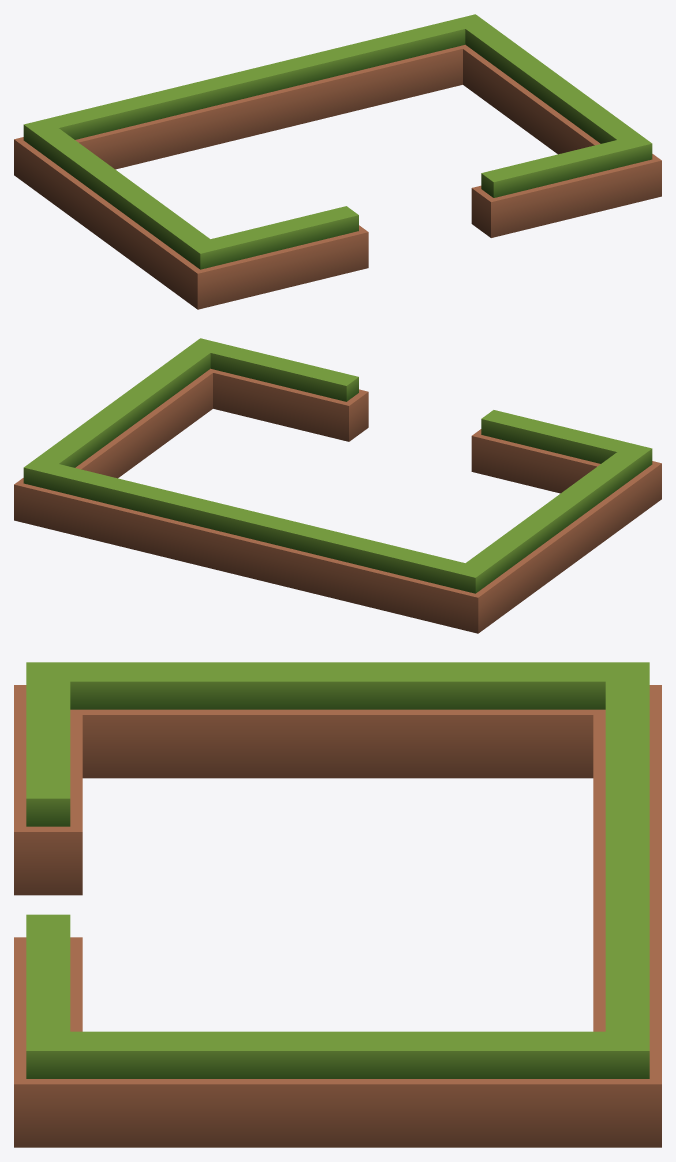
File: grass 15.fbx
3 views of the same model, one above another, from view 1: azimuth 30°, elevation 25°; view 2: azimuth 150°, elevation 25°; view 3: azimuth 270°, elevation 25° (orthographic). The views are drawn at different scales.
Parts seen in each view (by area): view 1: grass_14; view 2: grass_14; view 3: grass_14.
Boxes of the visible parts, x1,y1,x2,y2 form: grass_14: (14,14,661,309); grass_14: (14,338,661,633); grass_14: (14,662,661,1147).
Bounding box in the file's own units: 932 × 99.48 × 639.
1 material, 1 textured.
